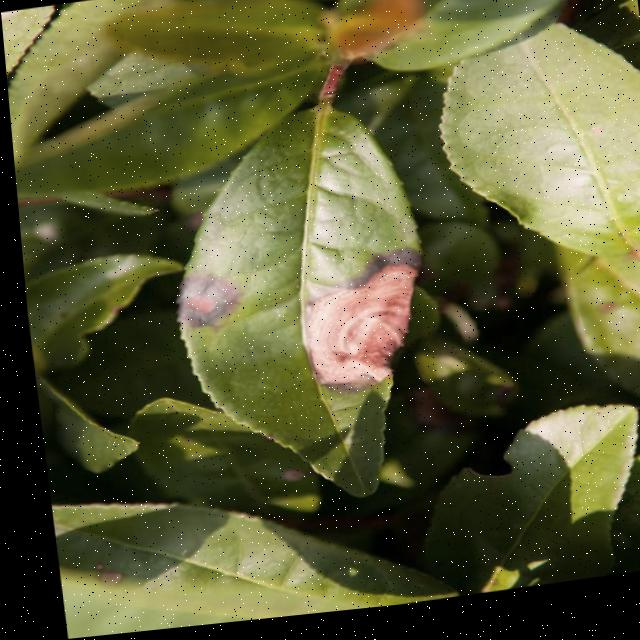Tea cloud leaf blight: (280, 247, 431, 397), (158, 265, 238, 335)
